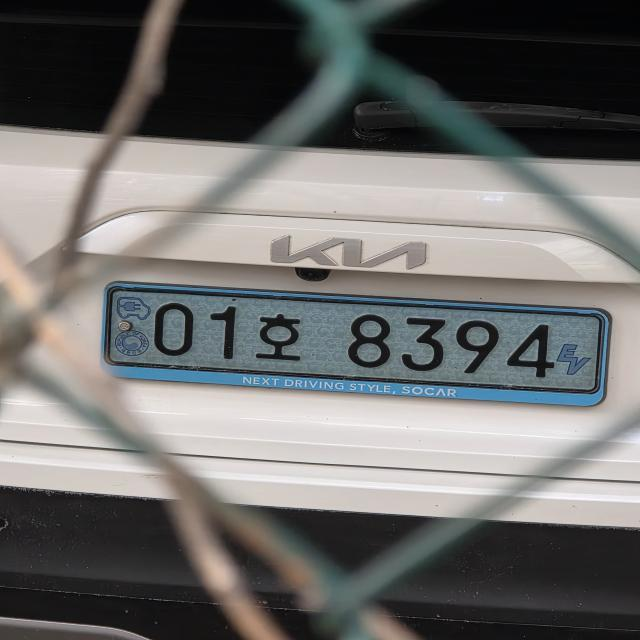car: (96, 281, 618, 417)
carev: (553, 314, 606, 397), (107, 288, 153, 365)
